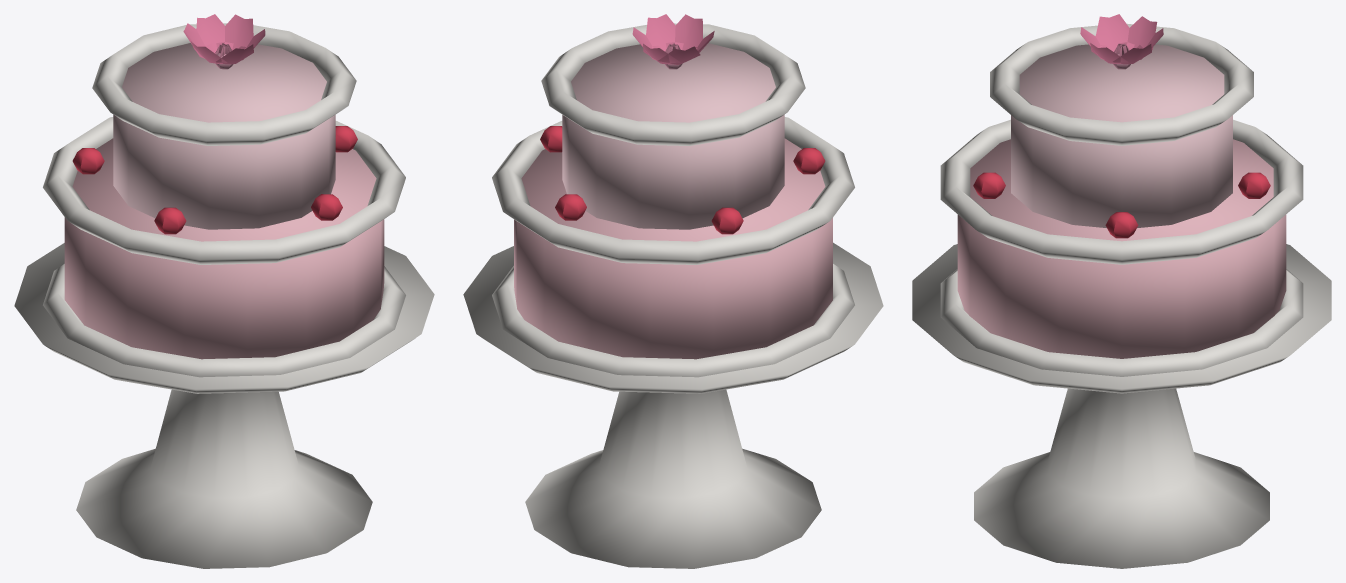
The model's file is cake_stand.glb.
3 renders of one model, left to right at view 1: azimuth 30°, elevation 25°; view 2: azimuth 150°, elevation 25°; view 3: azimuth 270°, elevation 25°, orthographic.
Visible parts, largest first — view 1: cake_stand; view 2: cake_stand; view 3: cake_stand.
Part boxes in pixels (box(x1,y1,x2,y2)): cake_stand: box(14, 14, 434, 568); cake_stand: box(463, 14, 883, 568); cake_stand: box(912, 14, 1331, 568).
Size of what is drawn, in the model's own units: 0.4 by 0.5 by 0.4.
